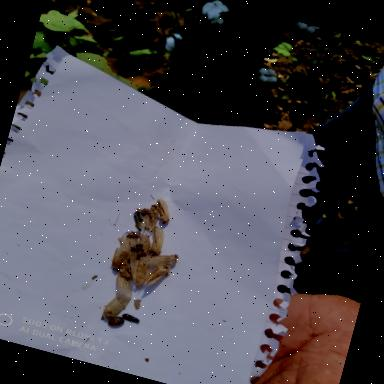abw: (137, 242, 181, 276), (108, 266, 140, 304), (98, 289, 132, 323), (124, 249, 154, 287), (142, 259, 174, 292), (132, 228, 154, 261), (151, 196, 175, 225), (142, 201, 162, 235), (146, 225, 167, 256), (110, 244, 130, 273)
